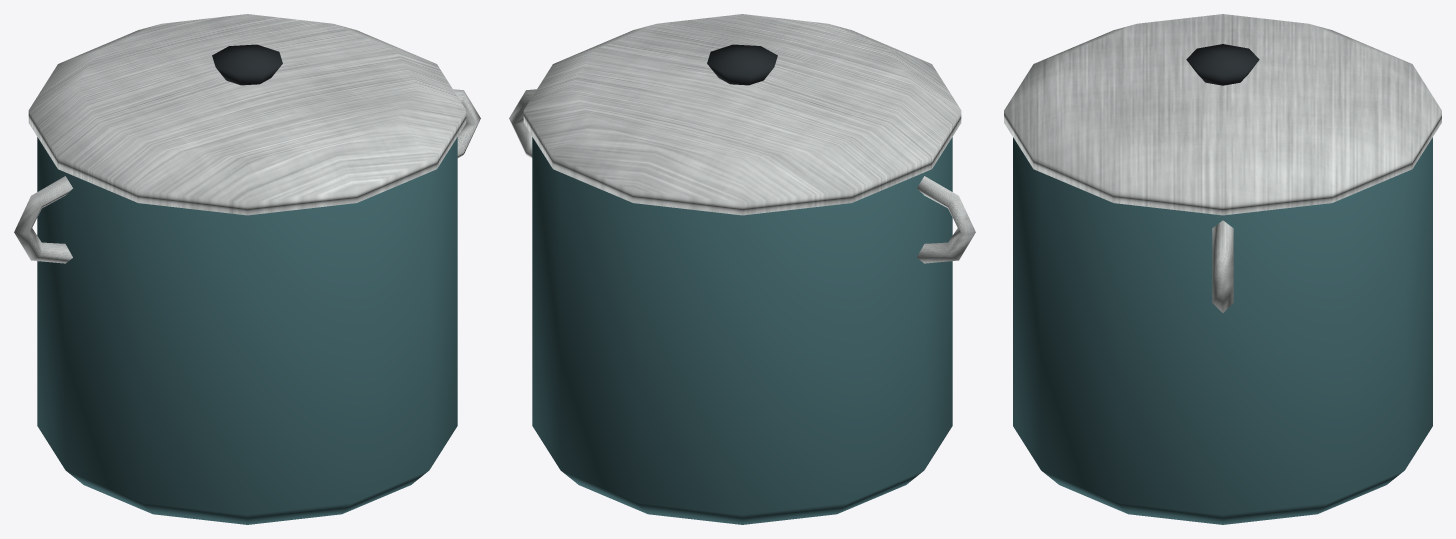
File: stock_pot.glb
The picture shows the model from 3 angles, left to right: view 1: azimuth 30°, elevation 25°; view 2: azimuth 150°, elevation 25°; view 3: azimuth 270°, elevation 25°; orthographic projection.
Parts seen in each view (by area): view 1: stock_pot; view 2: stock_pot; view 3: stock_pot.
Boxes of the visible parts, x1,y1,x2,y2 form: stock_pot: (14,14,480,524); stock_pot: (509,14,975,524); stock_pot: (1004,14,1441,524).
Bounding box in the file's own units: 0.308 × 0.247 × 0.25.
Materials: 3 (1 with a texture image).
